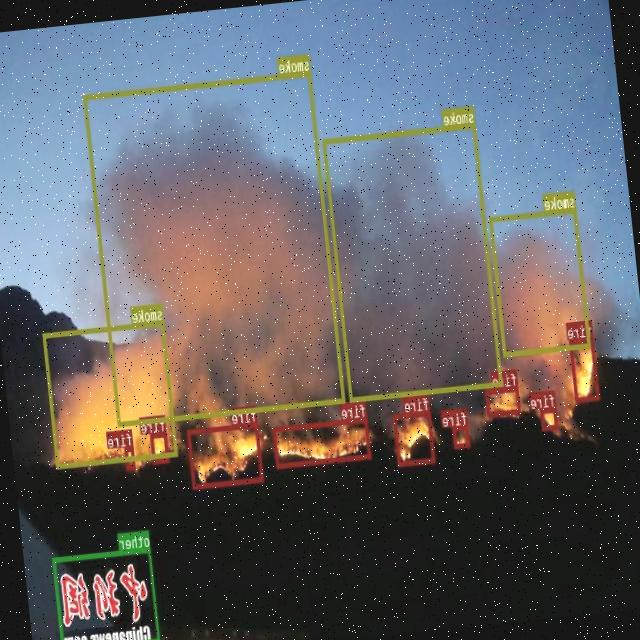fire: (188, 421, 264, 488), (273, 417, 372, 468), (394, 410, 436, 466), (570, 336, 600, 401), (486, 386, 522, 416), (150, 430, 170, 462), (540, 406, 558, 430), (452, 424, 470, 447), (125, 446, 136, 468)
smoke: (83, 70, 346, 424), (322, 122, 503, 401), (43, 320, 178, 468), (489, 207, 591, 355)
